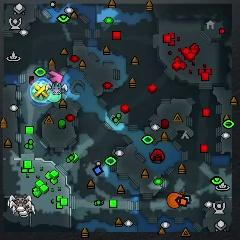Other: (33, 82, 48, 99)
p2: (47, 90, 63, 104)
p5: (167, 192, 185, 208)
x1: (46, 71, 64, 84)
